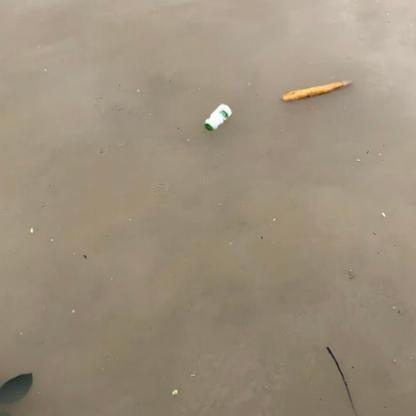plastic bottle: (204, 104, 231, 131)
